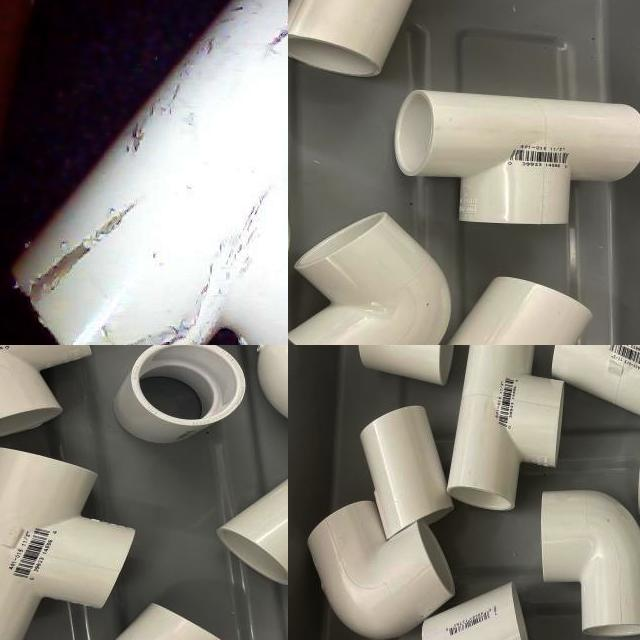Defective: (104, 66, 258, 160), (21, 212, 150, 312)
L Joint: (288, 214, 454, 345), (308, 501, 455, 639), (540, 490, 640, 640)
T Joint: (394, 90, 640, 228), (0, 449, 137, 640), (446, 345, 562, 513), (450, 277, 593, 345), (552, 345, 640, 422)
